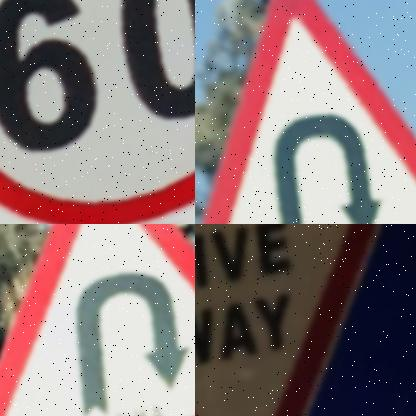Give Way: (195, 224, 416, 416), (195, 224, 416, 416)
U-Turn: (209, 0, 416, 224)
